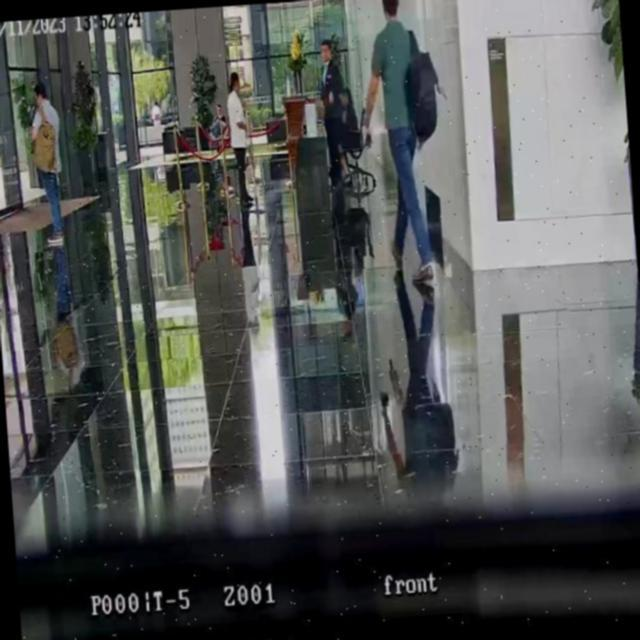person: (353, 0, 435, 288), (25, 80, 67, 242), (315, 36, 353, 188), (224, 70, 254, 208), (334, 86, 361, 184), (204, 103, 229, 139), (150, 101, 163, 126)
